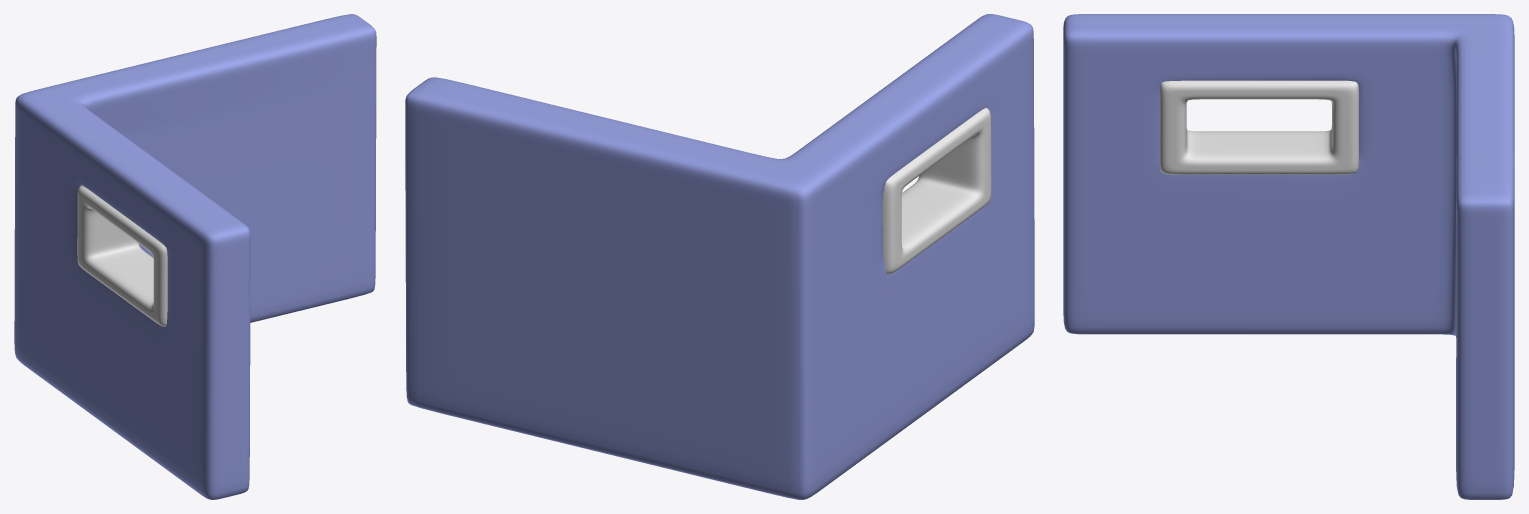
File: Wall01.fbx
3 renders of one model, left to right at view 1: azimuth 30°, elevation 25°; view 2: azimuth 150°, elevation 25°; view 3: azimuth 270°, elevation 25°, orthographic. The views are drawn at different scales.
Visible parts, largest first — view 1: ndp; view 2: ndp; view 3: ndp.
Part boxes in pixels (x1,y1,x2,y2): ndp: (14, 14, 376, 499); ndp: (405, 14, 1034, 499); ndp: (1063, 14, 1514, 499).
Bounding box in the file's own units: 309 × 226 × 305.
